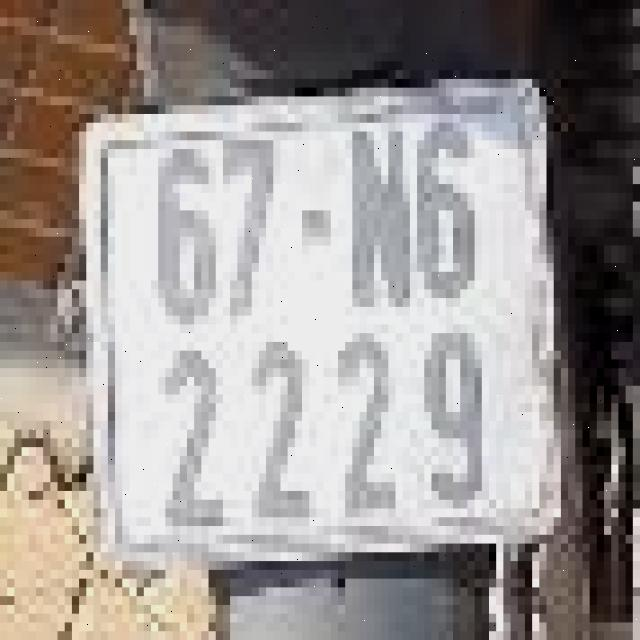2: (158, 338, 238, 539), (330, 320, 402, 513), (252, 338, 316, 530)
6: (413, 114, 492, 298), (151, 132, 223, 324)
7: (223, 136, 288, 320)
9: (417, 320, 489, 513)
N: (338, 110, 417, 311)
